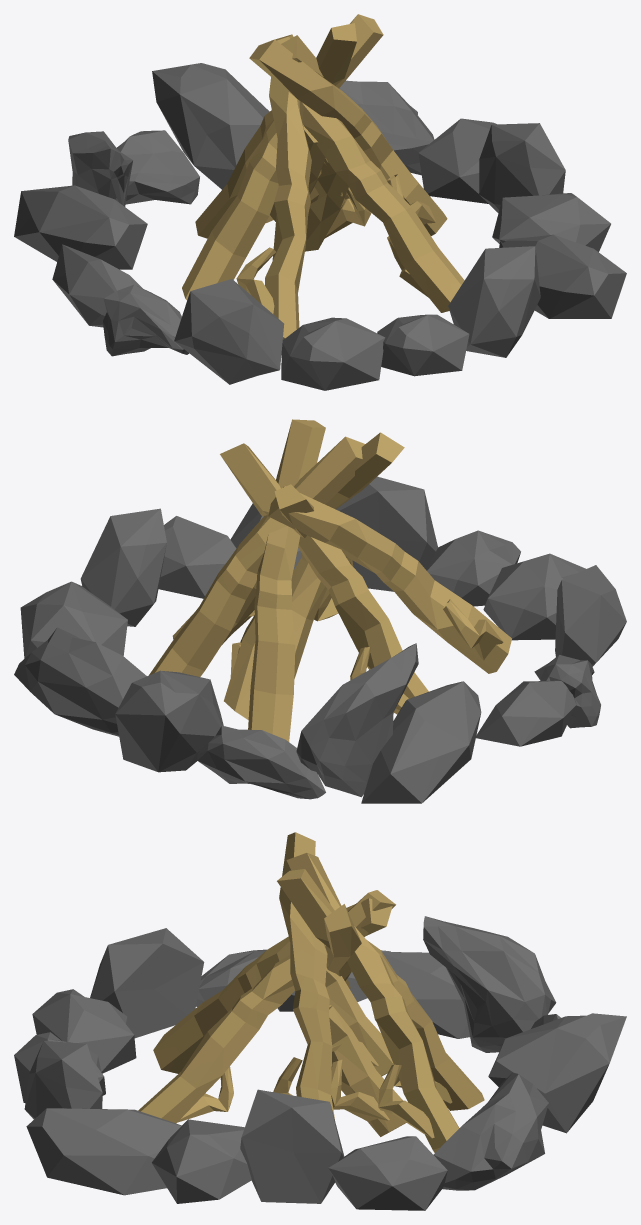
The model's file is woodStack.glb.
The picture shows the model from 3 angles, top to bottom: view 1: azimuth 30°, elevation 25°; view 2: azimuth 150°, elevation 25°; view 3: azimuth 270°, elevation 25°; orthographic projection. The views are drawn at different scales.
Parts seen in each view (by area): view 1: Icosphere.005, NurbsPath.010, NurbsPath.008, Icosphere.019, Icosphere.015_0.001, Icosphere.019_0.002, NurbsPath.009, NurbsPath.012, Icosphere.015_0.003, Icosphere.001_0.001, Icosphere.009, Icosphere.010 (+11 smaller); view 2: NurbsPath.008, NurbsPath.011, Icosphere.015_0.001, Icosphere.014, NurbsPath.013, Icosphere.005, NurbsPath.009, Icosphere.026, Icosphere.009, Icosphere.017, Icosphere.001_0.001, Icosphere.019_0.002 (+11 smaller); view 3: Icosphere.014, Icosphere.015_0.003, Icosphere.009, NurbsPath.013, Icosphere.005, NurbsPath.010, Icosphere.019, Icosphere.026, NurbsPath.012, Icosphere, Icosphere.010, NurbsPath.011 (+9 smaller).
Part boxes in pixels (bbox=[...]): Icosphere.005: bbox=[152, 63, 269, 189]; NurbsPath.010: bbox=[275, 34, 464, 312]; NurbsPath.008: bbox=[236, 77, 311, 354]; Icosphere.019: bbox=[174, 279, 284, 384]; Icosphere.015_0.001: bbox=[14, 185, 147, 269]; Icosphere.019_0.002: bbox=[448, 246, 540, 357]; NurbsPath.009: bbox=[182, 14, 383, 300]; NurbsPath.012: bbox=[249, 39, 447, 235]; Icosphere.015_0.003: bbox=[499, 234, 626, 318]; Icosphere.001_0.001: bbox=[281, 317, 385, 390]; Icosphere.009: bbox=[479, 123, 565, 212]; Icosphere.010: bbox=[492, 193, 610, 251]; NurbsPath.008: bbox=[268, 486, 511, 673]; NurbsPath.011: bbox=[248, 419, 325, 741]; Icosphere.015_0.001: bbox=[361, 681, 481, 803]; Icosphere.014: bbox=[296, 643, 418, 797]; NurbsPath.013: bbox=[149, 436, 365, 676]; Icosphere.005: bbox=[115, 670, 223, 772]; NurbsPath.009: bbox=[220, 443, 428, 714]; Icosphere.026: bbox=[14, 627, 146, 736]; Icosphere.009: bbox=[80, 508, 166, 626]; Icosphere.017: bbox=[197, 725, 325, 799]; Icosphere.001_0.001: bbox=[483, 553, 585, 640]; Icosphere.019_0.002: bbox=[336, 476, 437, 591]; Icosphere.014: bbox=[423, 916, 556, 1052]; Icosphere.015_0.003: bbox=[26, 1108, 181, 1195]; Icosphere.009: bbox=[240, 1089, 344, 1203]; NurbsPath.013: bbox=[286, 853, 459, 1152]; Icosphere.005: bbox=[488, 1013, 626, 1133]; NurbsPath.010: bbox=[138, 890, 395, 1123]; Icosphere.019: bbox=[90, 928, 204, 1038]; Icosphere.026: bbox=[433, 1072, 548, 1190]; NurbsPath.012: bbox=[273, 832, 334, 1119]; Icosphere: bbox=[328, 1136, 447, 1210]; Icosphere.010: bbox=[152, 1119, 251, 1203]; NurbsPath.011: bbox=[277, 869, 484, 1110].
Size of the model in its own units: 3.78 by 1.98 by 4.08.
